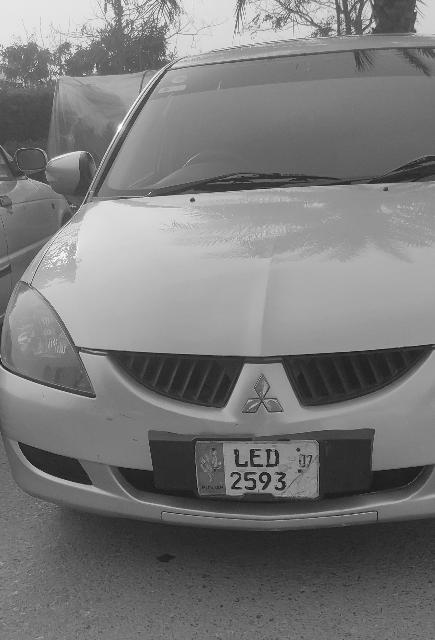Number: (228, 446, 290, 496)
